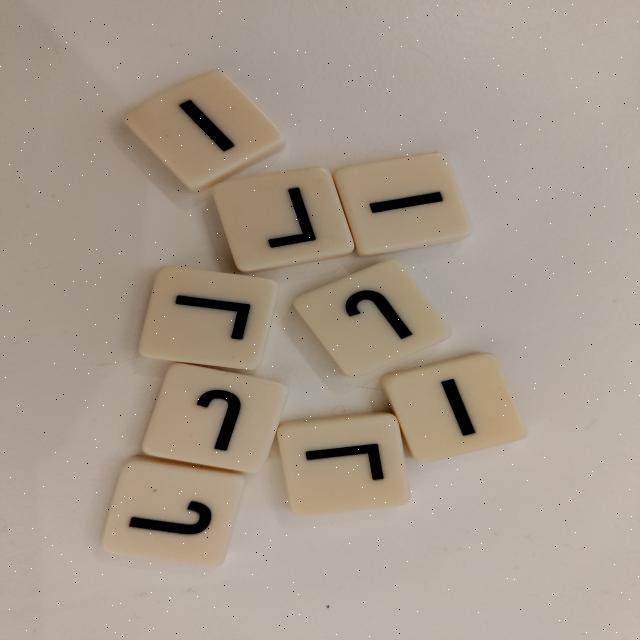i: (119, 64, 293, 195), (375, 348, 531, 465), (327, 149, 473, 259)
j: (287, 256, 455, 380), (138, 361, 292, 475), (100, 455, 248, 568), (273, 411, 415, 518)
l: (208, 165, 360, 275), (137, 265, 283, 371)
